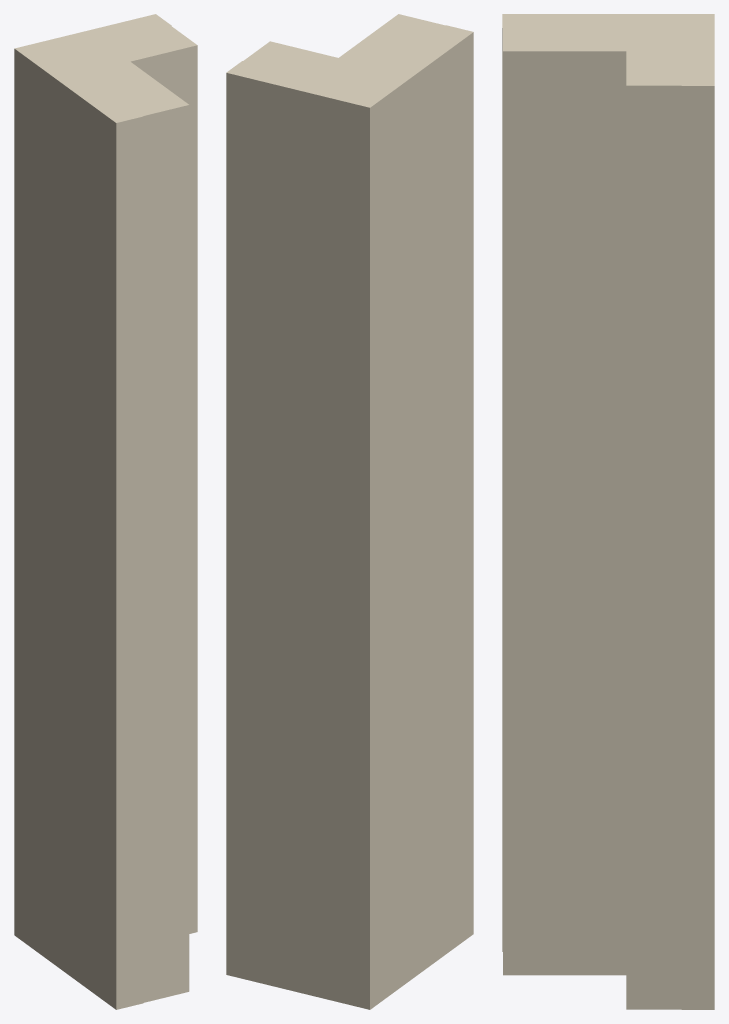
3 views of the same model, side by side, from view 1: azimuth 30°, elevation 25°; view 2: azimuth 150°, elevation 25°; view 3: azimuth 270°, elevation 25° (orthographic). The views are drawn at different scales.
Parts seen in each view (by area): view 1: B-GF-WALL-004; view 2: B-GF-WALL-004; view 3: B-GF-WALL-004.
Boxes of the visible parts, x1=… form: B-GF-WALL-004: x1=14, y1=14, x2=197, y2=1009; B-GF-WALL-004: x1=226, y1=14, x2=473, y2=1009; B-GF-WALL-004: x1=502, y1=14, x2=714, y2=1009.
Bounding box in the file's own units: 0.404 × 2.42 × 0.5041.
